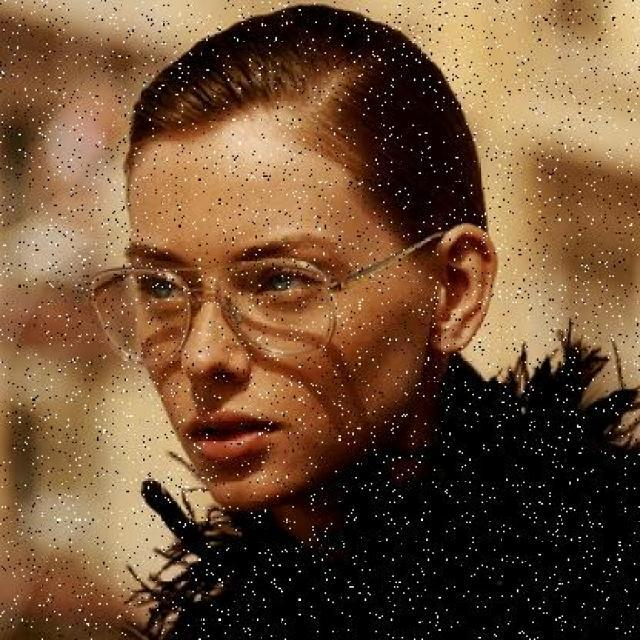glasses: (82, 252, 356, 377)
